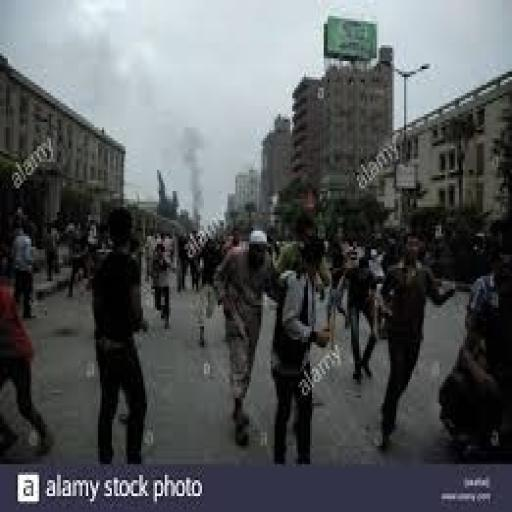running: (371, 228, 459, 456), (86, 204, 153, 467), (267, 233, 335, 467), (212, 223, 276, 451)
